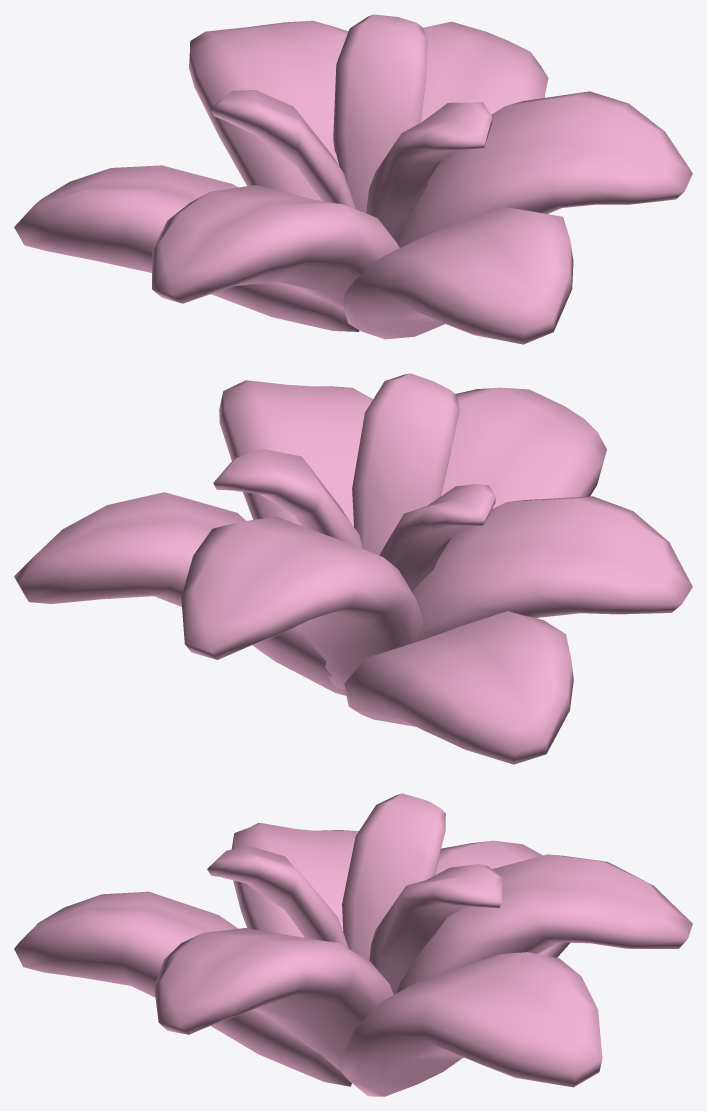
Rendered from Flower_03.fbx.
The picture shows the model from 3 angles, top to bottom: view 1: azimuth 30°, elevation 25°; view 2: azimuth 150°, elevation 25°; view 3: azimuth 270°, elevation 25°; orthographic projection. The views are drawn at different scales.
Visible parts, largest first — view 1: polySurface778; view 2: polySurface778; view 3: polySurface778.
Boxes of the visible parts, <box> form: polySurface778: <box>14,14,692,344</box>; polySurface778: <box>14,373,692,764</box>; polySurface778: <box>14,793,692,1096</box>.
Bounding box in the file's own units: 62.88 × 30.73 × 74.28.
